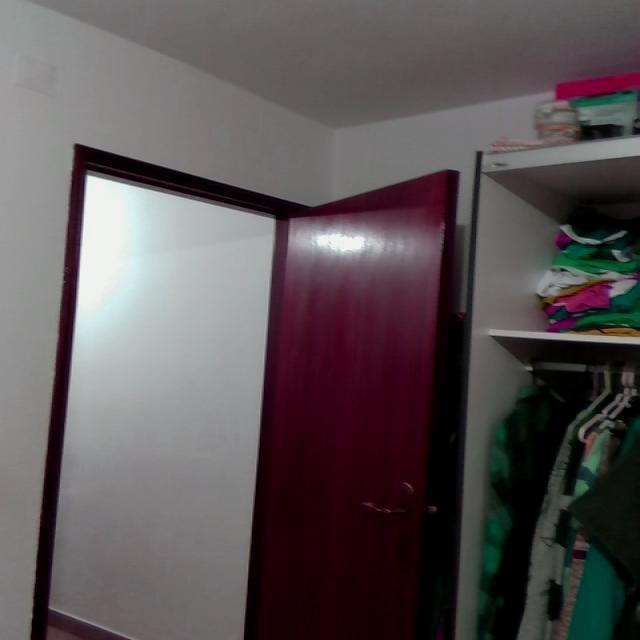door: (251, 145, 459, 640)
